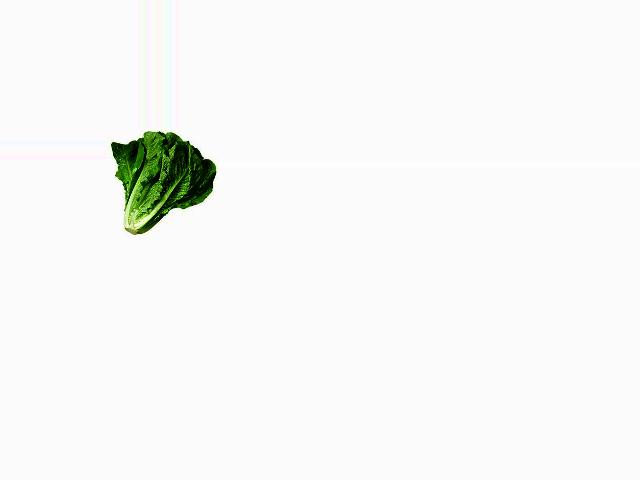lettuce: (113, 130, 217, 239)
